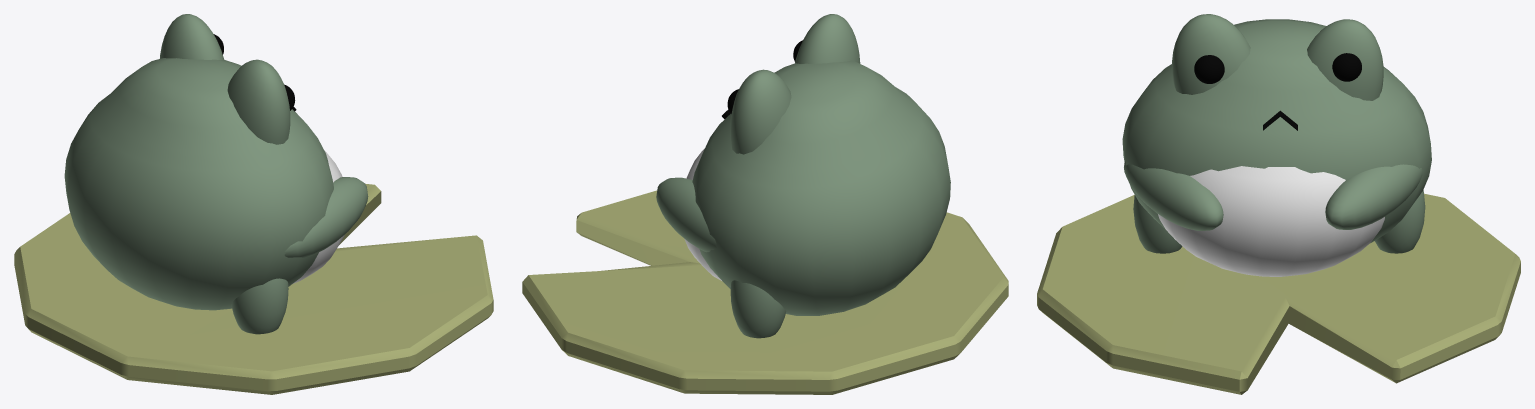
File: Kikker.fbx
3 views of the same model, side by side, from view 1: azimuth 30°, elevation 25°; view 2: azimuth 150°, elevation 25°; view 3: azimuth 270°, elevation 25° (orthographic).
Visible parts, largest first — view 1: pCylinder47; view 2: pCylinder47; view 3: pCylinder47.
Part boxes in pixels (<box>): pCylinder47: <box>14,14,493,394</box>; pCylinder47: <box>522,14,1008,394</box>; pCylinder47: <box>1037,14,1520,394</box>.
Bounding box in the file's own units: 0.2115 × 0.1281 × 0.2111.
